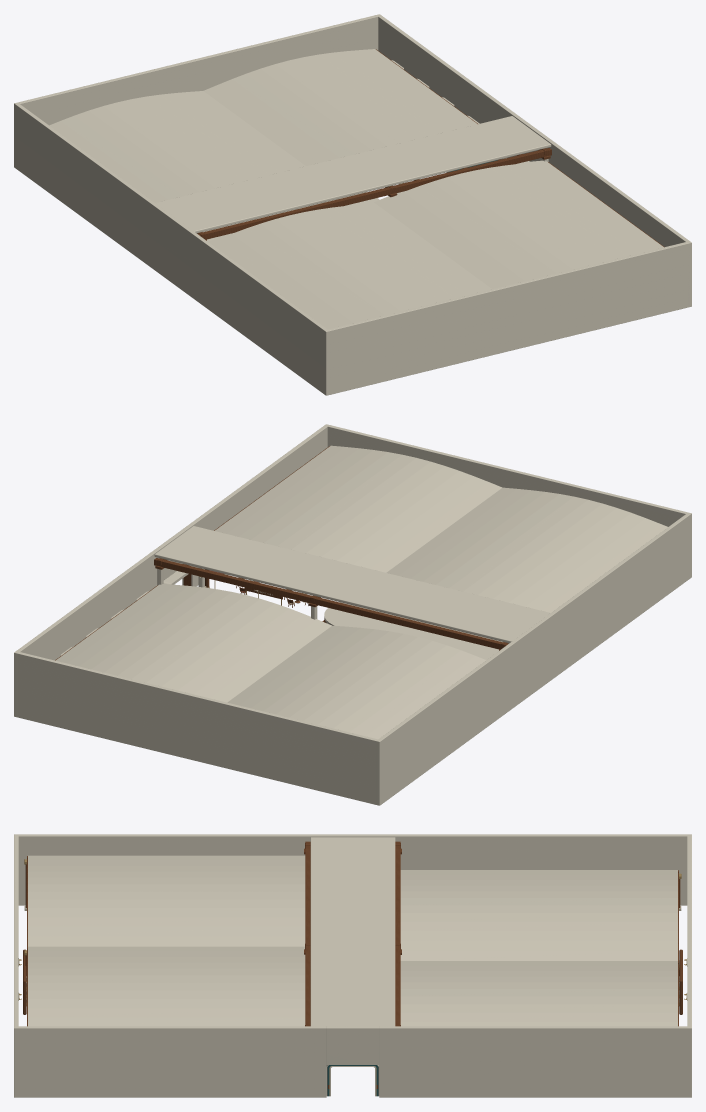
File: WP12_night_table_runtime_names001.glb
The picture shows the model from 3 angles, top to bottom: view 1: azimuth 30°, elevation 25°; view 2: azimuth 150°, elevation 25°; view 3: azimuth 270°, elevation 25°; orthographic projection. The views are drawn at different scales.
Visible parts, largest first — view 1: WP12N_00002, WP12N_00000, WP12N_00029, WP12N_00001, WP12N_00003, WP12N_00004, WP12N_00040, WP12N_00156, WP12N_00168, WP12N_00167, WP12N_00157, WP12N_00169 (+42 smaller); view 2: WP12N_00001, WP12N_00000, WP12N_00029, WP12N_00002, WP12N_00003, WP12N_00004, WP12N_00030, WP12N_00156, WP12N_00168, WP12N_00157, WP12N_00169, WP12N_00167 (+43 smaller); view 3: WP12N_00003, WP12N_00004, WP12N_00000, WP12N_00029, WP12N_00165, WP12N_00166, WP12N_00063, WP12N_00062, WP12N_00164, WP12N_00176, WP12N_00061, WP12N_00073 (+42 smaller).
Part boxes in pixels (x1,y1,x2,y2): WP12N_00002: (328, 242, 689, 394); WP12N_00000: (14, 102, 329, 395); WP12N_00029: (155, 116, 551, 233); WP12N_00001: (18, 14, 378, 125); WP12N_00003: (378, 14, 523, 157); WP12N_00004: (544, 137, 691, 307); WP12N_00040: (197, 148, 551, 239); WP12N_00156: (216, 233, 352, 326); WP12N_00168: (388, 191, 525, 284); WP12N_00167: (374, 196, 508, 289); WP12N_00157: (231, 228, 369, 322); WP12N_00169: (403, 186, 541, 280); WP12N_00001: (16, 651, 377, 804); WP12N_00000: (376, 512, 691, 805); WP12N_00029: (154, 526, 550, 643); WP12N_00002: (327, 424, 687, 526); WP12N_00003: (14, 547, 161, 717); WP12N_00004: (182, 424, 328, 586); WP12N_00030: (154, 558, 508, 649); WP12N_00156: (525, 518, 659, 610); WP12N_00168: (353, 476, 487, 568); WP12N_00157: (509, 513, 645, 606); WP12N_00169: (337, 471, 473, 564); WP12N_00167: (370, 482, 502, 572); WP12N_00003: (379, 1026, 691, 1097); WP12N_00004: (14, 1026, 326, 1097); WP12N_00000: (14, 834, 691, 905); WP12N_00029: (310, 837, 395, 1026); WP12N_00165: (28, 926, 305, 936); WP12N_00166: (28, 936, 305, 946); WP12N_00063: (400, 940, 677, 950); WP12N_00062: (400, 931, 677, 940); WP12N_00164: (28, 917, 305, 926); WP12N_00176: (28, 1008, 305, 1017); WP12N_00061: (400, 921, 677, 930); WP12N_00073: (400, 1012, 677, 1021).
Size of the model in its own units: 46 by 7.7 by 68.
61 materials, 59 textured.
